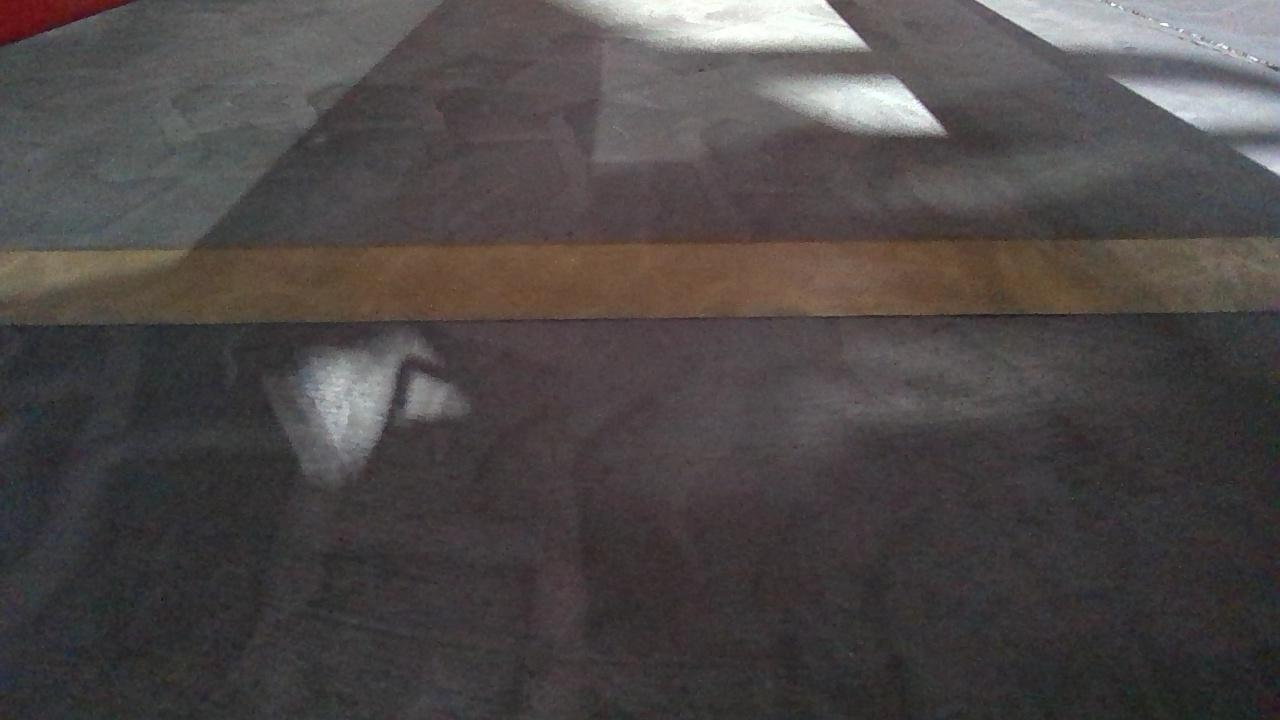yellow_line: (1, 246, 1280, 314)
